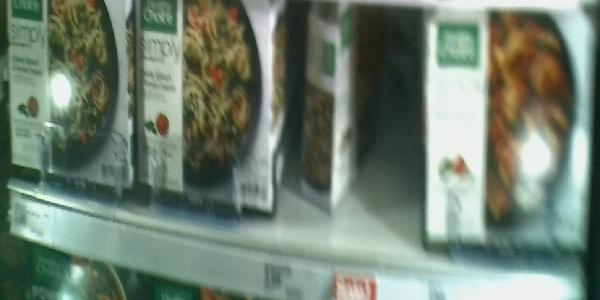pizza1: (425, 2, 589, 259), (136, 1, 274, 221), (3, 1, 128, 187)
pizza2: (303, 3, 336, 212)
